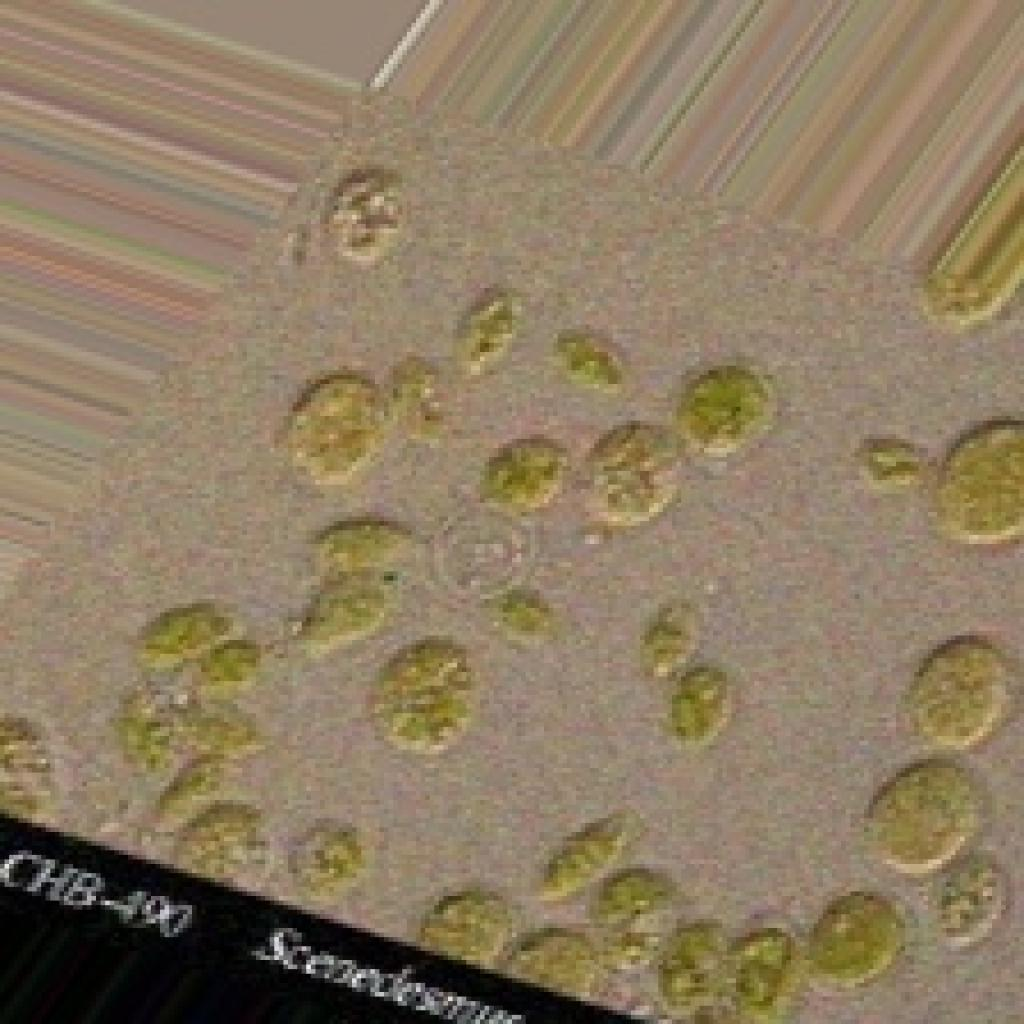Microalgae: (0, 82, 1019, 1019)
